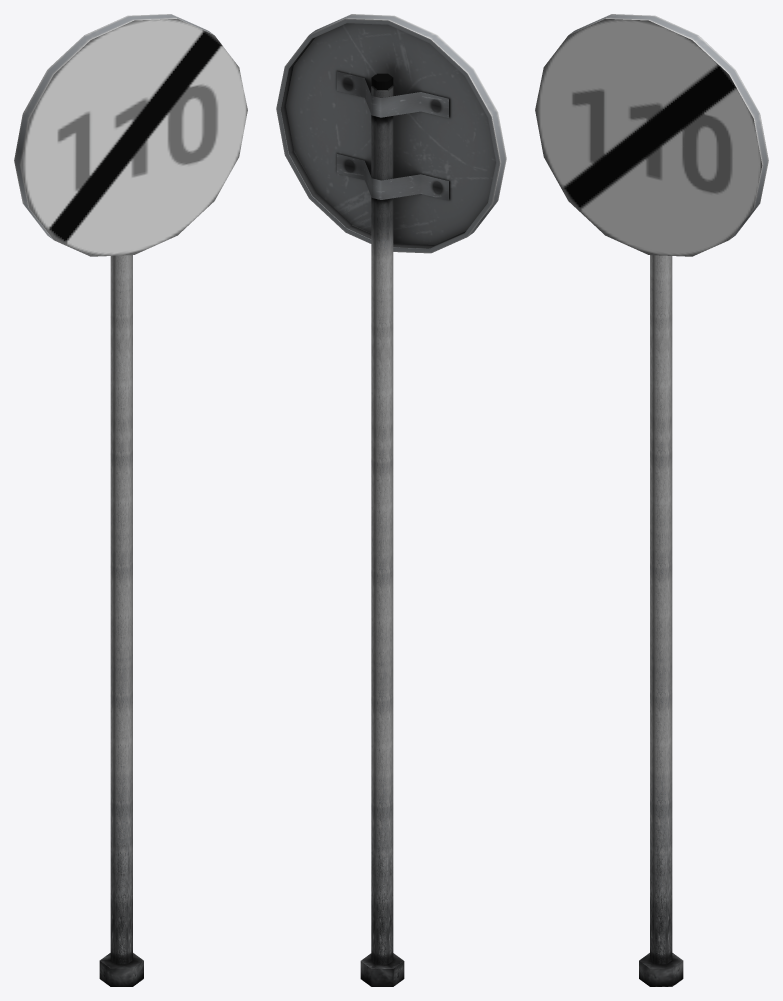
File: ROD0310023.FBX
3 views of the same model, side by side, from view 1: azimuth 30°, elevation 25°; view 2: azimuth 150°, elevation 25°; view 3: azimuth 330°, elevation 25° (orthographic).
Visible parts, largest first — view 1: smROD0310023; view 2: smROD0310023; view 3: smROD0310023.
Part boxes in pixels (x1=…): smROD0310023: x1=14, y1=14, x2=247, y2=986; smROD0310023: x1=276, y1=14, x2=506, y2=986; smROD0310023: x1=535, y1=14, x2=768, y2=986.
Size of the model in its own units: 0.7209 by 2.93 by 0.1296.
1 material, 1 textured.
